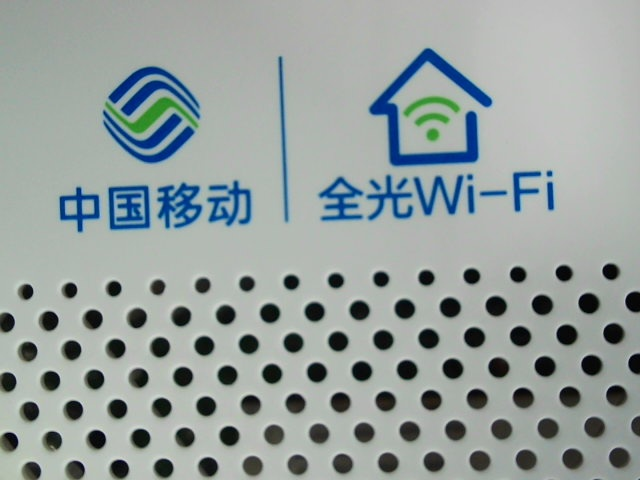BJ_QuanGuangMobile: (50, 45, 569, 239)
